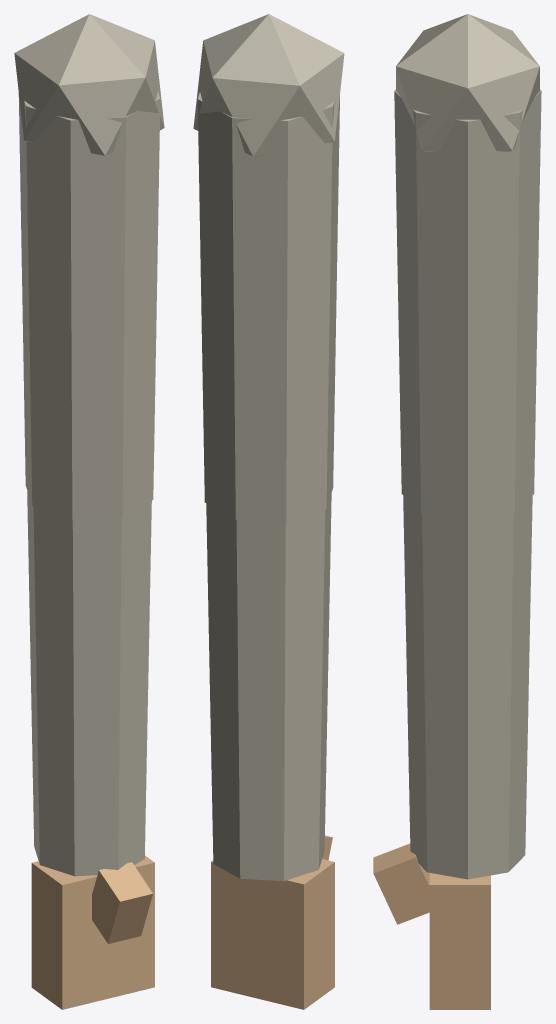
The model's file is PersonHelper1ArmR.obj.
The picture shows the model from 3 angles, left to right: view 1: azimuth 30°, elevation 25°; view 2: azimuth 150°, elevation 25°; view 3: azimuth 270°, elevation 25°; orthographic projection.
Visible parts, largest first — view 1: PersonHelper1ArmR; view 2: PersonHelper1ArmR; view 3: PersonHelper1ArmR.
Boxes of the visible parts, <box> form: PersonHelper1ArmR: <box>14,14,164,1009</box>; PersonHelper1ArmR: <box>193,14,344,1009</box>; PersonHelper1ArmR: <box>373,14,541,1009</box>.
Size of the model in its own units: 0.0987 by 0.7002 by 0.1096.
